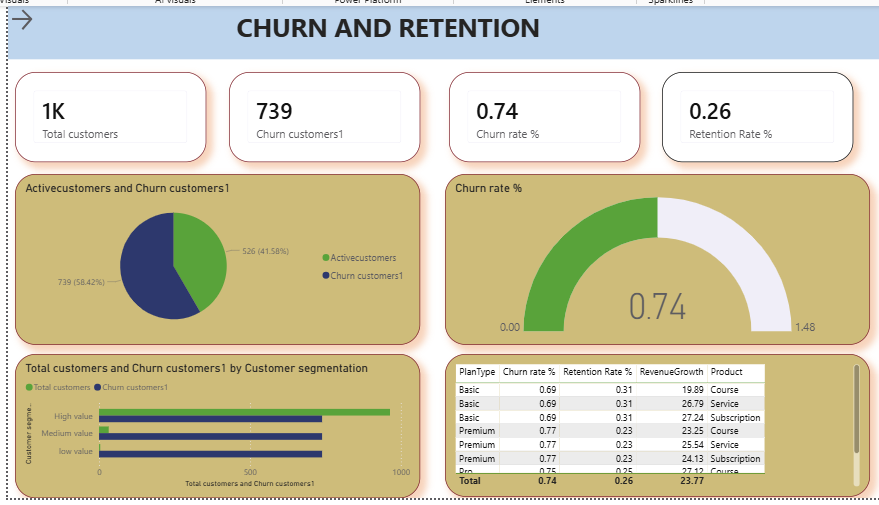

This screenshot's page, from the dashboard's own definition file:
{"tool":"powerbi","page":{"name":"   CHURN AND RETENTION","canvas":[1280,720],"ordinal":3},"visuals":[{"type":"textbox","box":[0,0,1280.5,77.6],"z":0},{"type":"cardVisual","fields":{"Data":["Customer_Master 1.Total customers"]},"box":[10.2,96.6,279.5,131.7],"z":1000},{"type":"cardVisual","fields":{"Data":["Subscription 1.Churn customers1"]},"box":[323.4,96.6,279.5,131.7],"z":2000},{"type":"cardVisual","fields":{"Data":["Subscription 1.Churn rate %"]},"box":[645.4,96.6,279.5,131.7],"z":3000},{"type":"cardVisual","fields":{"Data":["Customer_Master 1.Retention Rate %"]},"box":[957.1,96.6,279.5,131.7],"z":4000},{"type":"pieChart","fields":{"Y":["Customer_Master 1.Activecustomers","Subscription 1.Churn customers1"]},"box":[10.2,245.9,592.7,250.2],"z":5000},{"type":"clusteredBarChart","fields":{"Category":["Customer_Master 1.Customer segmentation"],"Y":["Customer_Master 1.Total customers","Subscription 1.Churn customers1"]},"box":[10.2,509.3,592.7,210.7],"z":6000},{"type":"gauge","fields":{"Y":["Subscription 1.Churn rate %"]},"box":[639.5,245.9,622,250.2],"z":7000},{"type":"tableEx","fields":{"Values":["Subscription 1.PlanType","Subscription 1.Churn rate %","Customer_Master 1.Retention Rate %","Customer_Master 1.Revenue Growth%","Transactions 1.Product"]},"box":[639.5,509.3,622,209.3],"z":8000},{"type":"actionButton","box":[0,0,100,40],"z":8001}]}

Visuals, with their boxes in screenshot pixels (x1, y1, x2, y2):
textbox: locate(9, 5, 876, 57)
cardVisual - Customer_Master 1.Total customers: locate(16, 70, 205, 159)
cardVisual - Subscription 1.Churn customers1: locate(228, 70, 417, 159)
cardVisual - Subscription 1.Churn rate %: locate(446, 70, 636, 159)
cardVisual - Customer_Master 1.Retention Rate %: locate(657, 70, 847, 159)
pieChart - Customer_Master 1.Activecustomers x Subscription 1.Churn customers1: locate(16, 171, 417, 341)
clusteredBarChart - Customer_Master 1.Customer segmentation x Customer_Master 1.Total customers: locate(16, 349, 417, 492)
gauge - Subscription 1.Churn rate %: locate(442, 171, 863, 341)
tableEx - Subscription 1.PlanType x Subscription 1.Churn rate %: locate(442, 349, 863, 491)
actionButton: locate(9, 5, 77, 32)
